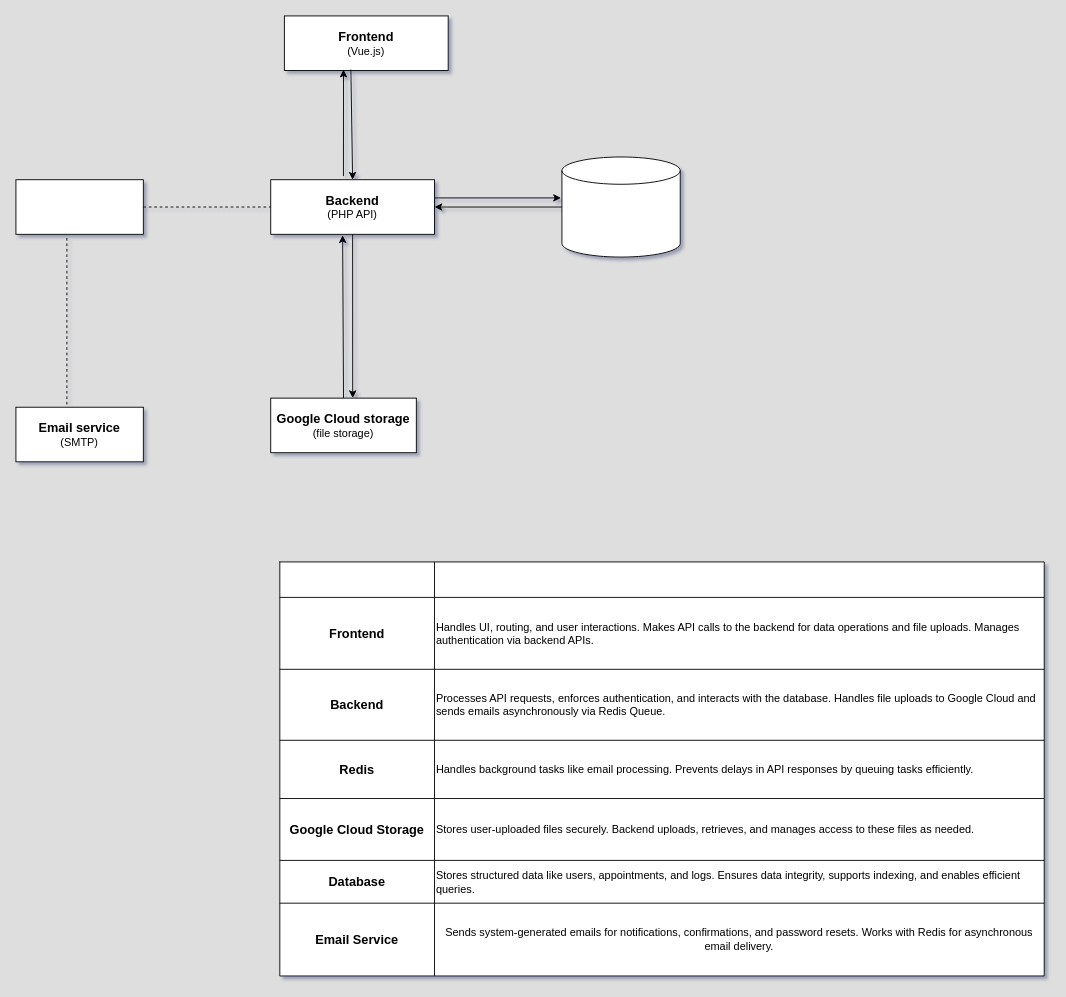
Some shapes in this 1066 by 997 pixel diagram are drawn without their labels. Each missing label, with the centre of its shape:
Database ( postgreSQL ): the point at 620,206
Redis (Email Queue): the point at 79,206
